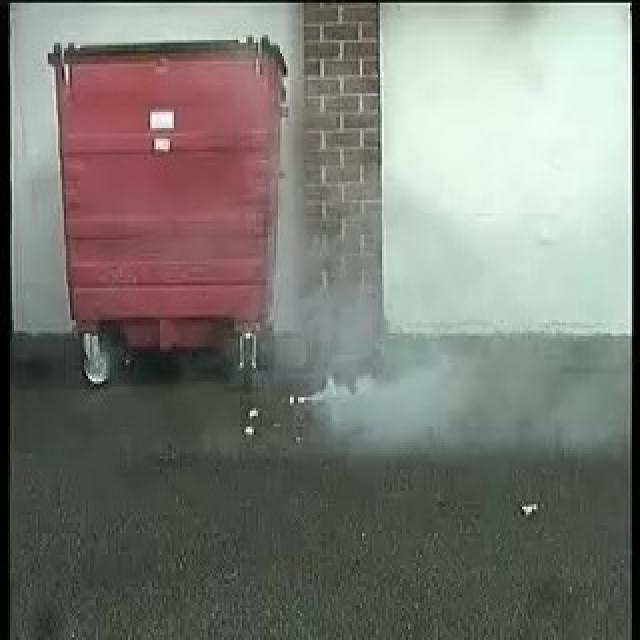smoke: (276, 213, 424, 435)
